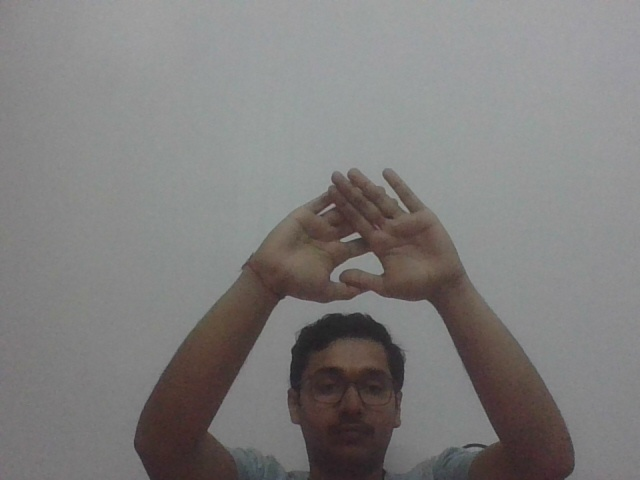W: (250, 164, 471, 307)
